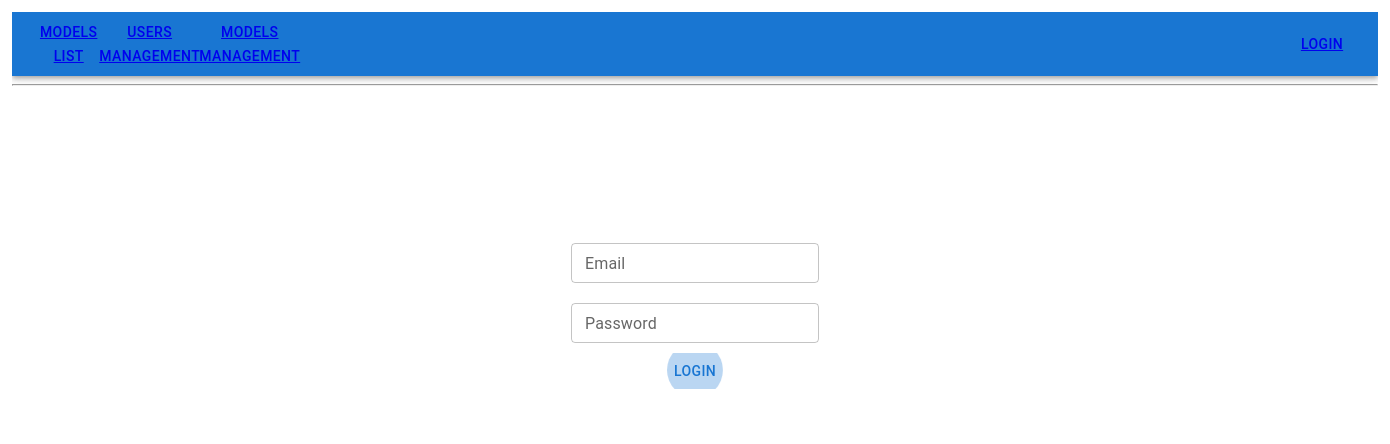
Scenario: Login › should show error when Email or Password is empty
Click the button with id "login" at (695, 372), box [663, 353, 727, 390]
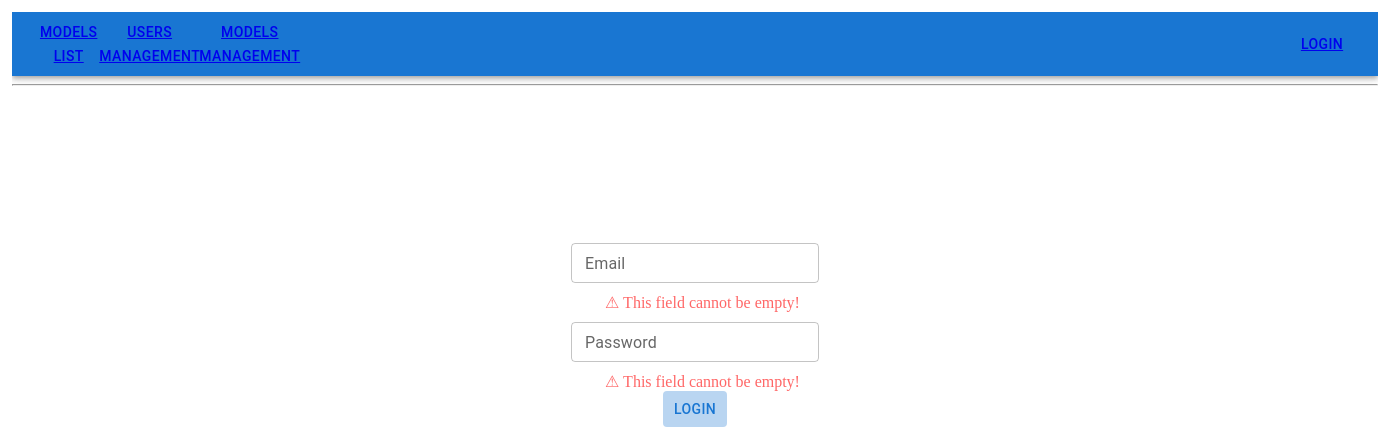
Expected: the 1st text "This field cannot be empty!" is shown, [605, 294, 800, 311]
